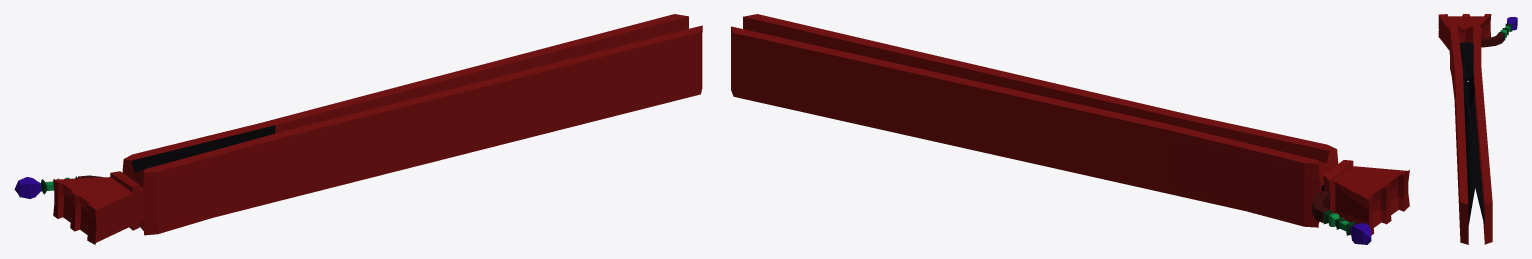
File: Fan_Close.FBX
3 views of the same model, side by side, from view 1: azimuth 30°, elevation 25°; view 2: azimuth 150°, elevation 25°; view 3: azimuth 270°, elevation 25° (orthographic). The views are drawn at different scales.
Visible parts, largest first — view 1: Cylinder001; view 2: Cylinder001; view 3: Cylinder001.
Part boxes in pixels (x1,y1,x2,y2): Cylinder001: [14, 14, 702, 244]; Cylinder001: [731, 14, 1409, 244]; Cylinder001: [1438, 14, 1517, 244].
Size of the model in its own units: 36.9 by 3.41 by 6.01.
